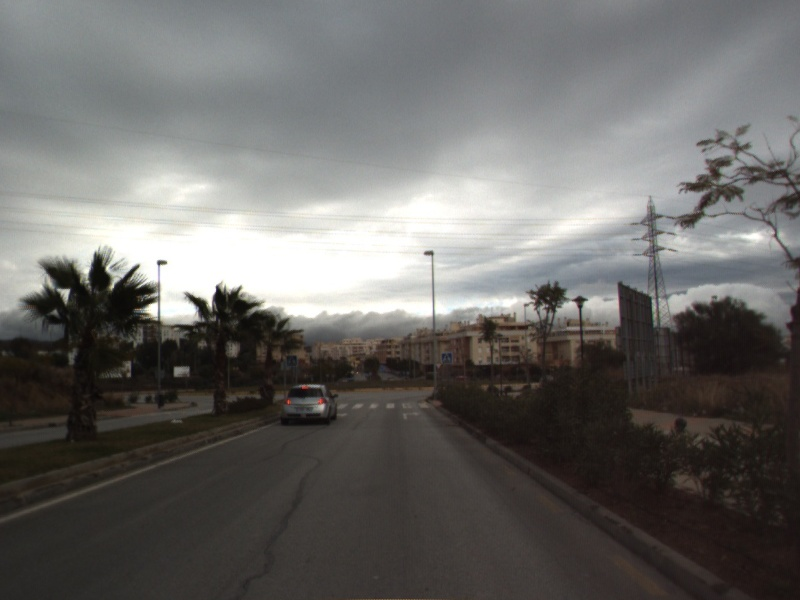RIGHT: (401, 409, 422, 422)
